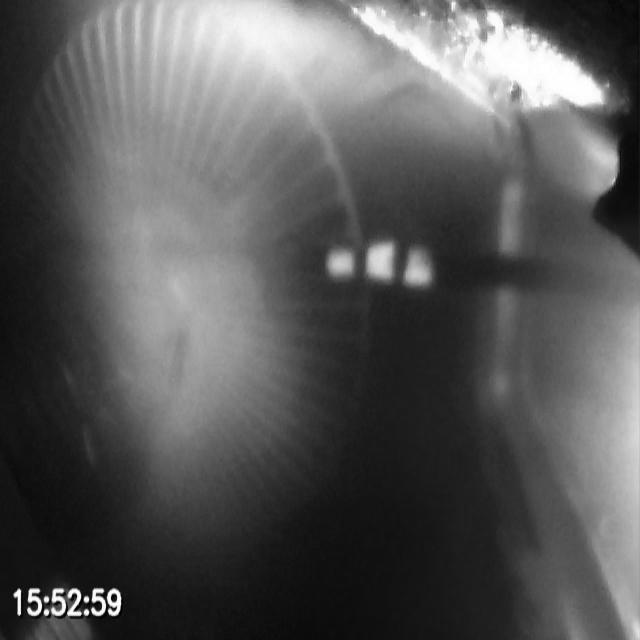white-dots: (322, 239, 435, 288)
